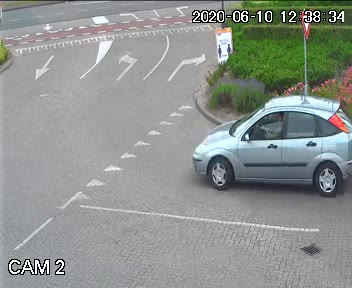car: (186, 93, 352, 196)
